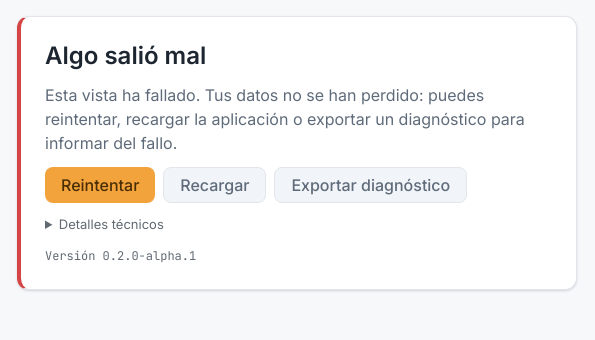
Test: ErrorBoundary (BASE-08) › exports diagnostics from the fallback
The image size is (595, 340).
What coordinates should you click on to do the following:
click the button "Exportar diagnóstico"
I would click on:
 (371, 185)
Its box is [274, 167, 467, 203].
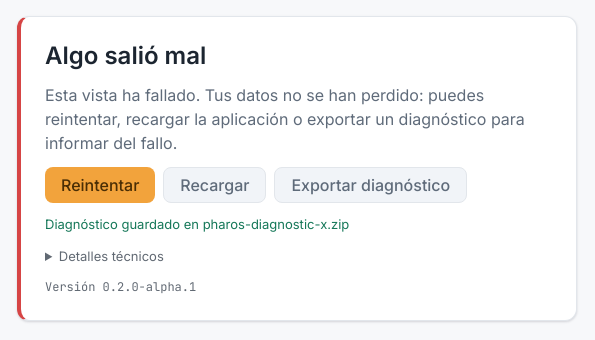
Result: the text "Diagnóstico guardado en pharos-diagnostic-x.zip" is shown at [45, 216, 349, 232]
